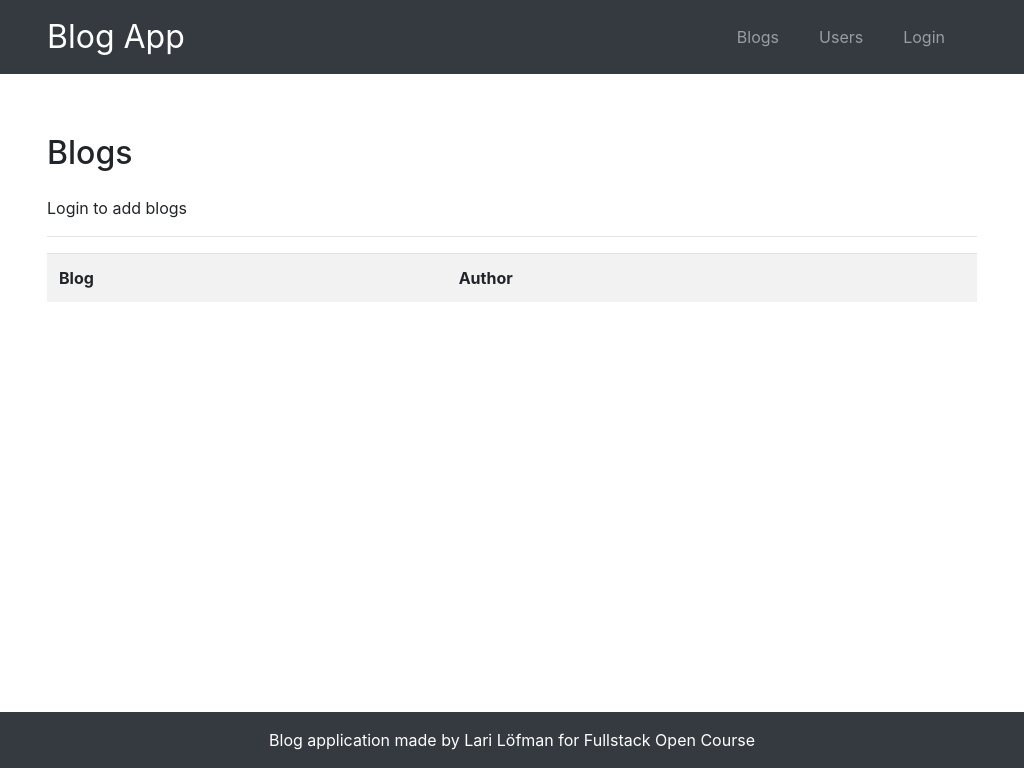
Test case: Blog app › Login form is shown
Click the link "Login": (924, 37) top-left (903, 27), bottom-right (945, 47)
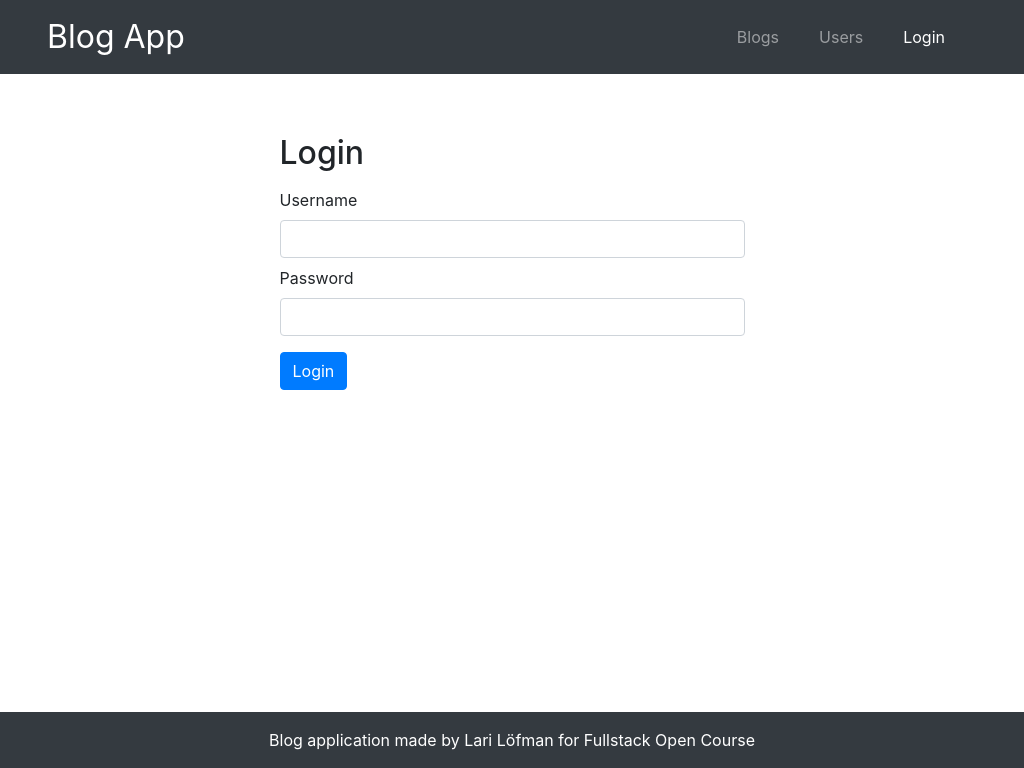
Expected: the form with id "login-form" is shown, top-left (280, 188), bottom-right (745, 390)
